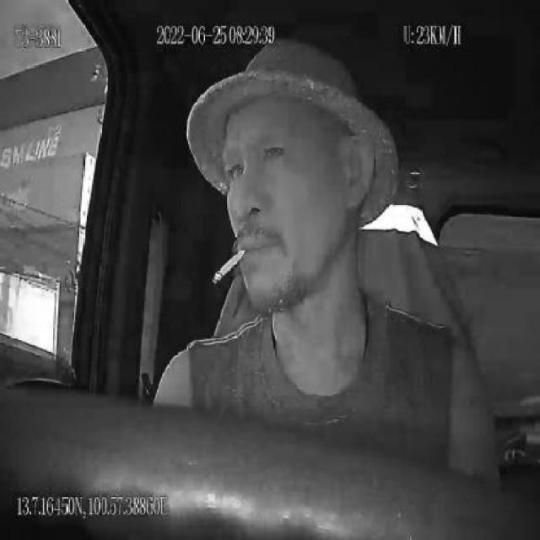smoking: (212, 246, 248, 284)
